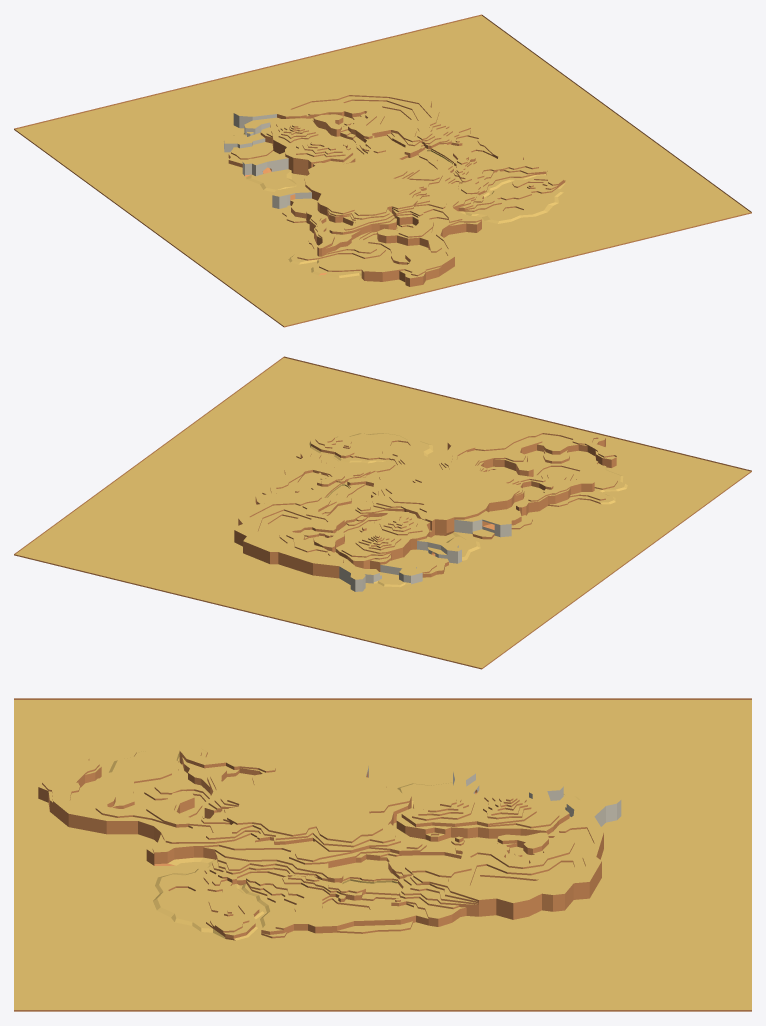
File: map.fbx
3 renders of one model, top to bottom at view 1: azimuth 30°, elevation 25°; view 2: azimuth 150°, elevation 25°; view 3: azimuth 270°, elevation 25°, orthographic. The views are drawn at different scales.
Parts seen in each view (by area): view 1: Map; view 2: Map; view 3: Map.
Part boxes in pixels (box(x1,y1,x2,y2)): Map: box(14, 14, 751, 327); Map: box(14, 356, 751, 669); Map: box(14, 698, 751, 1011).
Bounding box in the file's own units: 80000 × 3800 × 80000.
